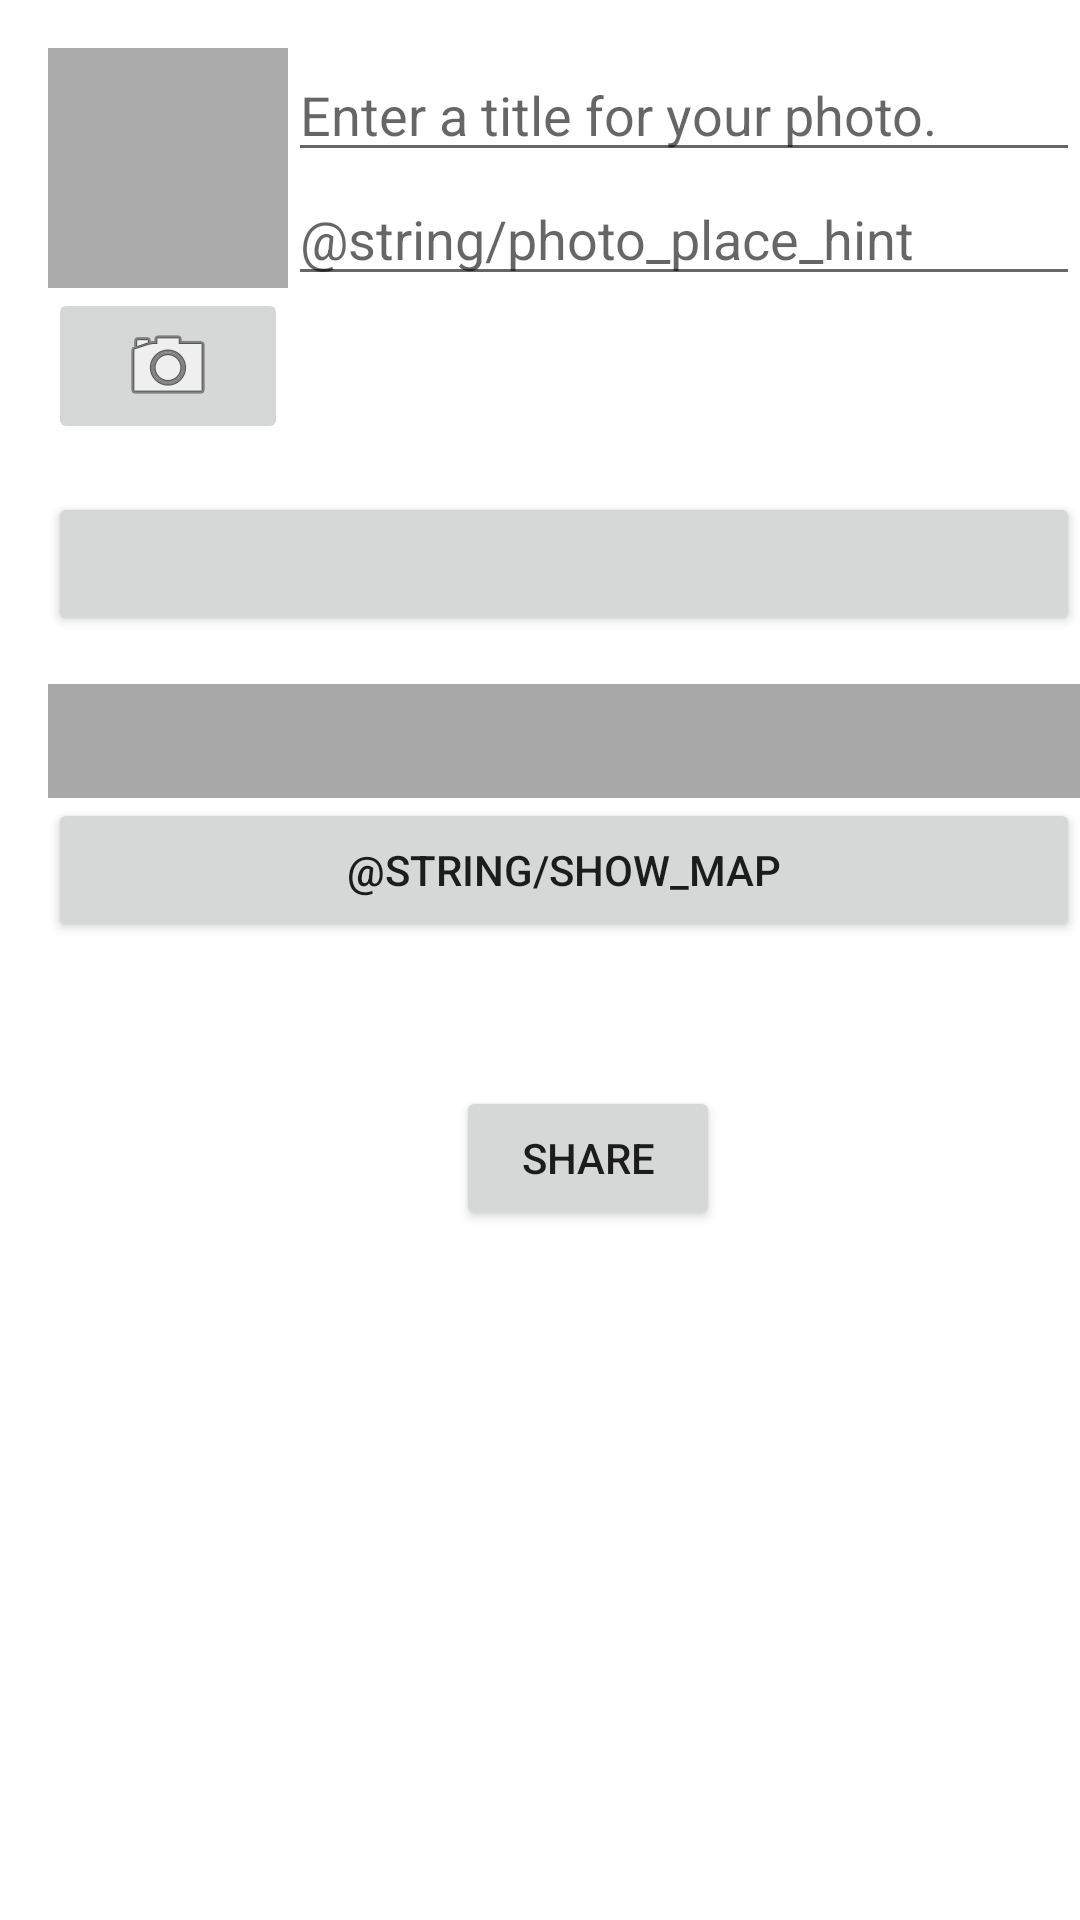

Icon click points for this 1080w x 1920h phone screenshot, format [x,y]:
camera: [168,366]
